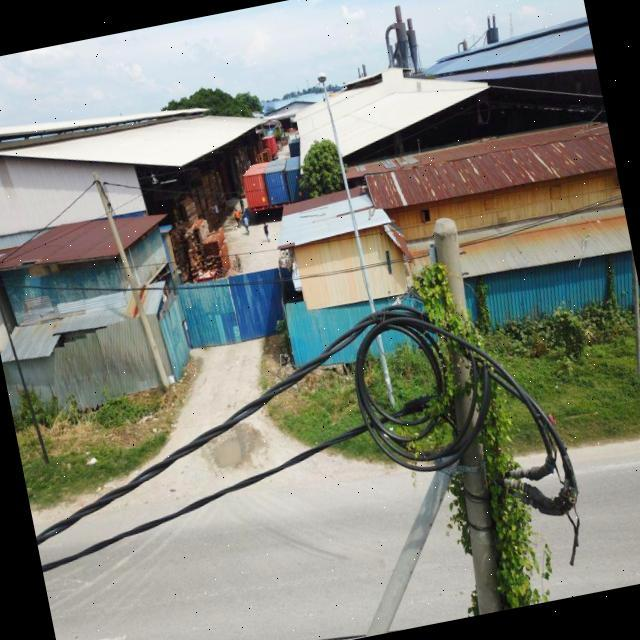critical vegetation: (386, 236, 568, 620)
